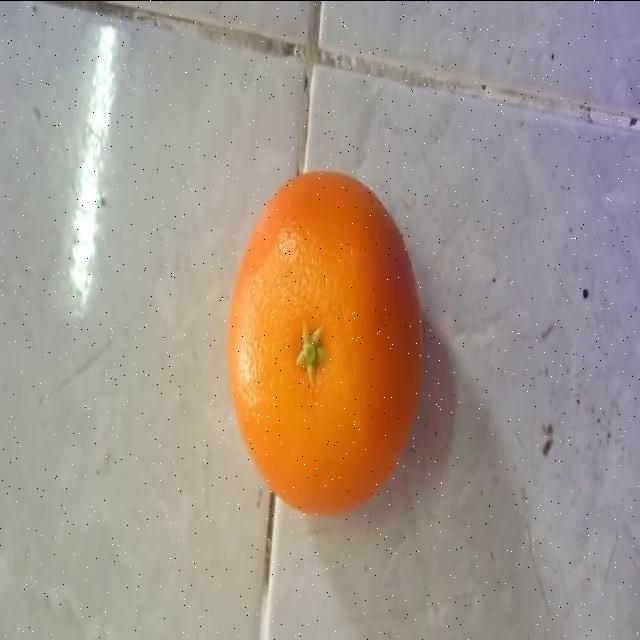Orange: (224, 170, 424, 517)
